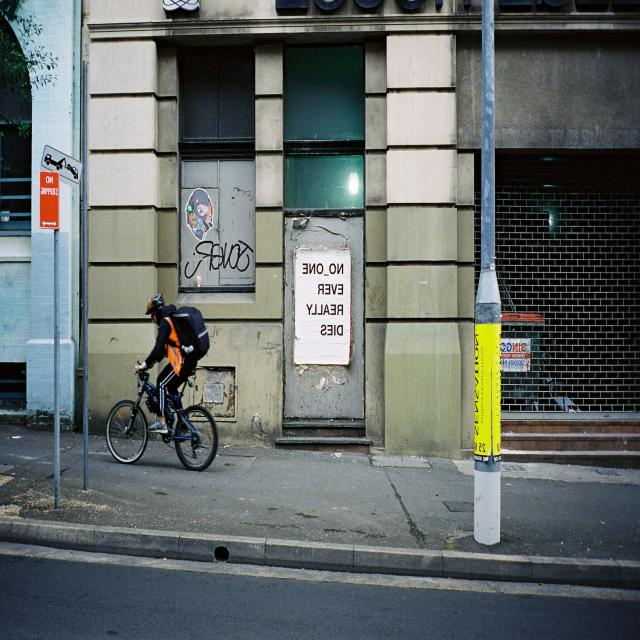adult: (134, 296, 198, 446)
